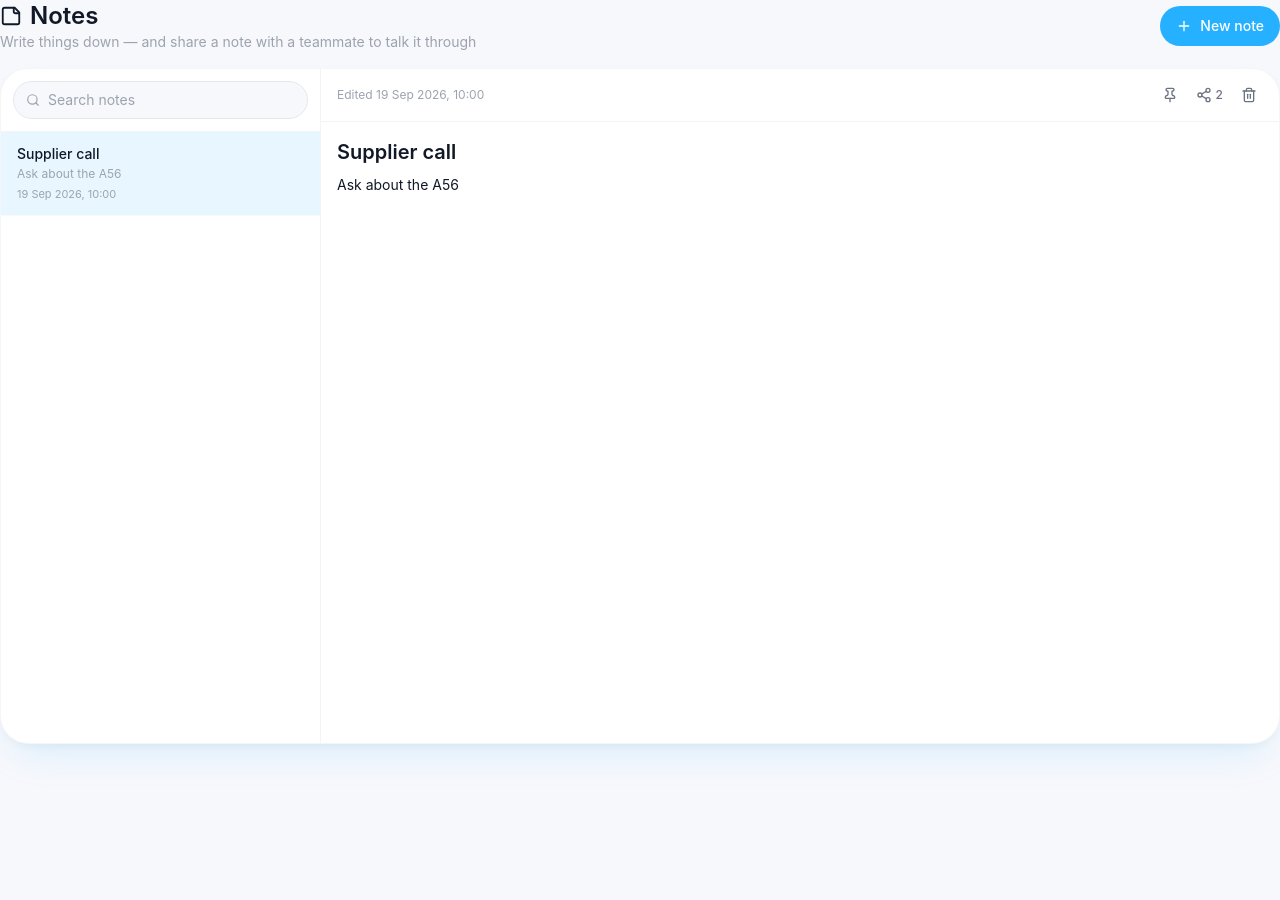
Test: NotesPage › sharing › lets the owner take someone's access away
Click the button named "Share note". click: coordinates (1209, 95)
box: left=1188, top=81, right=1231, bottom=109
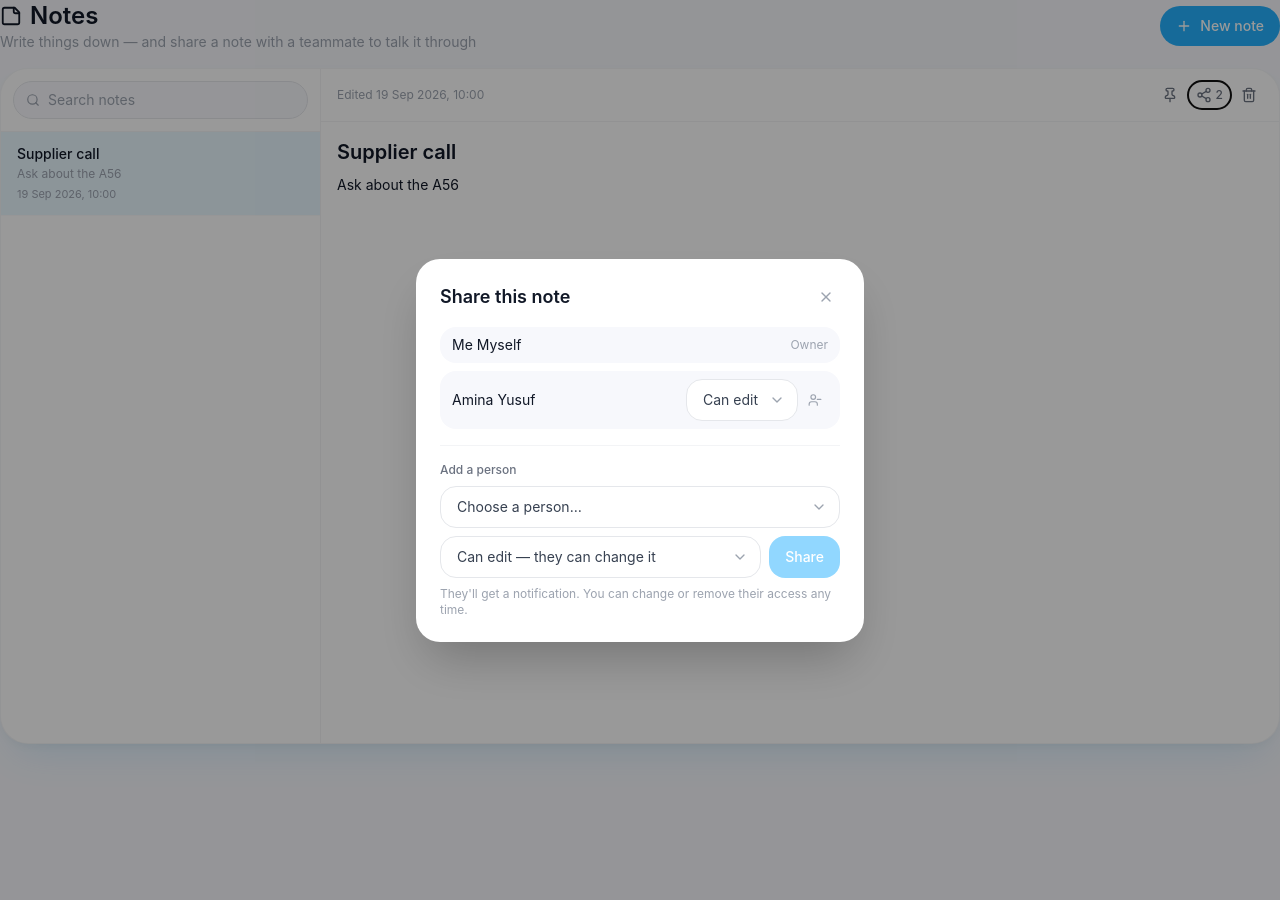
Click the button named "Remove Amina Yusuf". click: coordinates (815, 400)
box: left=802, top=386, right=828, bottom=412
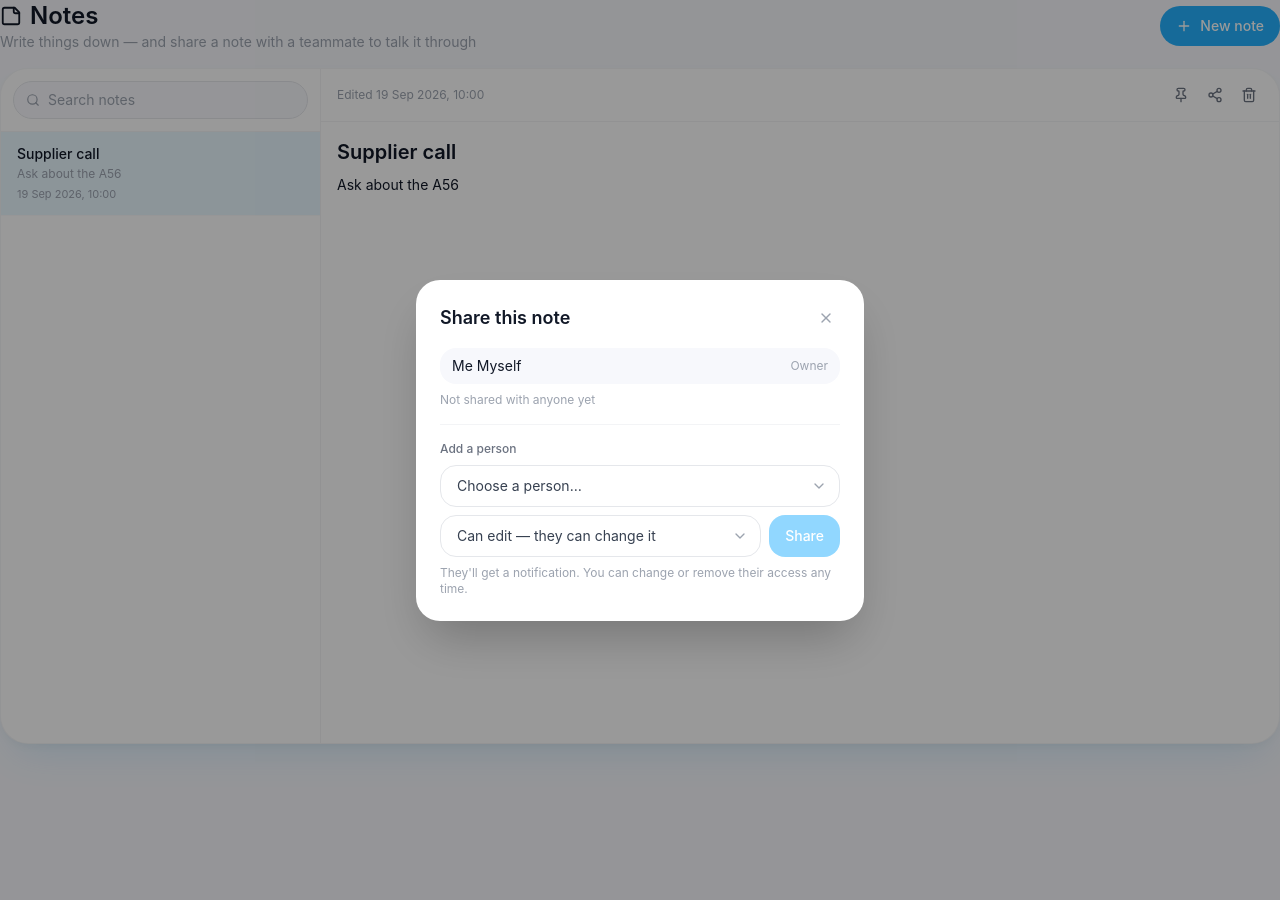
Expected: the list item "Not shared with anyone yet" is shown, left=440, top=392, right=595, bottom=406
